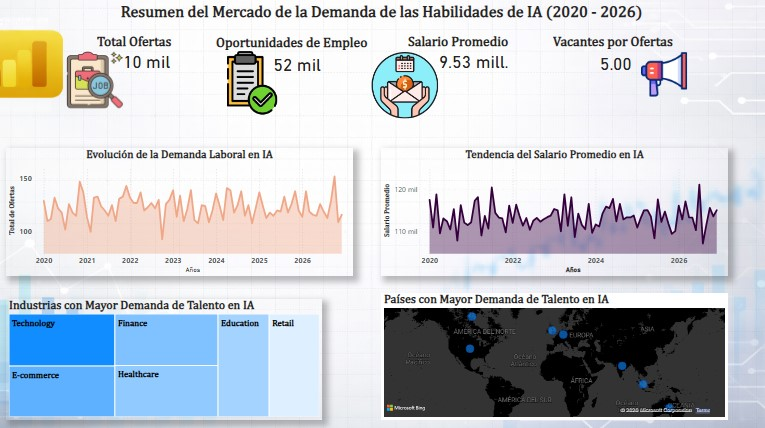

What the dashboard file says about the page in this screenshot:
{"tool":"powerbi","page":{"name":"Resumen de Mercado","canvas":[1280,720],"ordinal":0},"visuals":[{"type":"card","title":"Total Ofertas","fields":{"Values":["_Mis Medidas.Total Trabajos"]},"box":[162.1,62.8,175.3,67.8],"z":0},{"type":"image","box":[99.2,86,125.7,105.8],"z":1000},{"type":"card","title":"Oportunidades de Empleo","fields":{"Values":["Sum(ai_jobmarket_db vw_powerbi_master_audit.job_openings)"]},"box":[360.5,64.5,279.5,74.4],"z":2000},{"type":"image","box":[337.4,81,177,125.7],"z":3000},{"type":"card","title":"Salario Promedio","fields":{"Values":["Sum(ai_jobmarket_db vw_trends_time.avg_salary)"]},"box":[679.7,62.8,228.2,67.8],"z":4000},{"type":"image","box":[623.5,92.6,112.5,110.8],"z":5000},{"type":"card","title":"Vacantes por Ofertas","fields":{"Values":["_Mis Medidas.Talent Demand Index"]},"box":[921.1,62.8,218.3,74.4],"z":6000},{"type":"lineChart","title":"Evolución de la Demanda Laboral en IA","fields":{"Category":["ai_jobmarket_db vw_trends_time.date_month"],"Y":["Sum(ai_jobmarket_db vw_trends_time.total_jobs)"]},"box":[14.3,252.9,578.6,214.3],"z":7000},{"type":"lineChart","title":"Tendencia del Salario Promedio en IA","fields":{"Category":["ai_jobmarket_db vw_trends_time.date_month.Variación.Jerarquía de fechas.Año","ai_jobmarket_db vw_trends_time.date_month.Variación.Jerarquía de fechas.Mes"],"Y":["Sum(ai_jobmarket_db vw_trends_time.avg_salary)"]},"box":[640,252.9,578.6,214.3],"z":8000},{"type":"treemap","title":"Industrias con Mayor Demanda de Talento en IA","fields":{"Group":["ai_jobmarket_db vw_powerbi_master_audit.company_industry"],"Values":["_Mis Medidas.Total Trabajos"]},"box":[14.3,504.3,527.1,201.4],"z":9000},{"type":"image","box":[1072.9,85.7,77.1,91.4],"z":10000},{"type":"map","title":"Países con Mayor Demanda de Talento en IA","fields":{"Category":["ai_jobmarket_db vw_powerbi_master_audit.country"],"Size":["_Mis Medidas.Total Trabajos"]},"box":[640.5,494.5,578.3,211.1],"z":11000},{"type":"textbox","box":[79.5,7.2,1121.9,50.6],"z":12000}]}

Visuals, with their boxes in screenshot pixels (x1, y1, x2, y2), scaled from the page's 1280x720 canvas onto the 765x428 screenshot:
"Total Ofertas" card: bbox=(97, 37, 202, 78)
image: bbox=(59, 51, 134, 114)
"Oportunidades de Empleo" card: bbox=(215, 38, 382, 83)
image: bbox=(202, 48, 307, 123)
"Salario Promedio" card: bbox=(406, 37, 543, 78)
image: bbox=(373, 55, 440, 121)
"Vacantes por Ofertas" card: bbox=(551, 37, 681, 82)
"Evolución de la Demanda Laboral en IA" lineChart: bbox=(9, 150, 354, 278)
"Tendencia del Salario Promedio en IA" lineChart: bbox=(382, 150, 728, 278)
"Industrias con Mayor Demanda de Talento en IA" treemap: bbox=(9, 300, 324, 419)
image: bbox=(641, 51, 687, 105)
"Países con Mayor Demanda de Talento en IA" map: bbox=(383, 294, 728, 419)
textbox: bbox=(48, 4, 718, 34)
